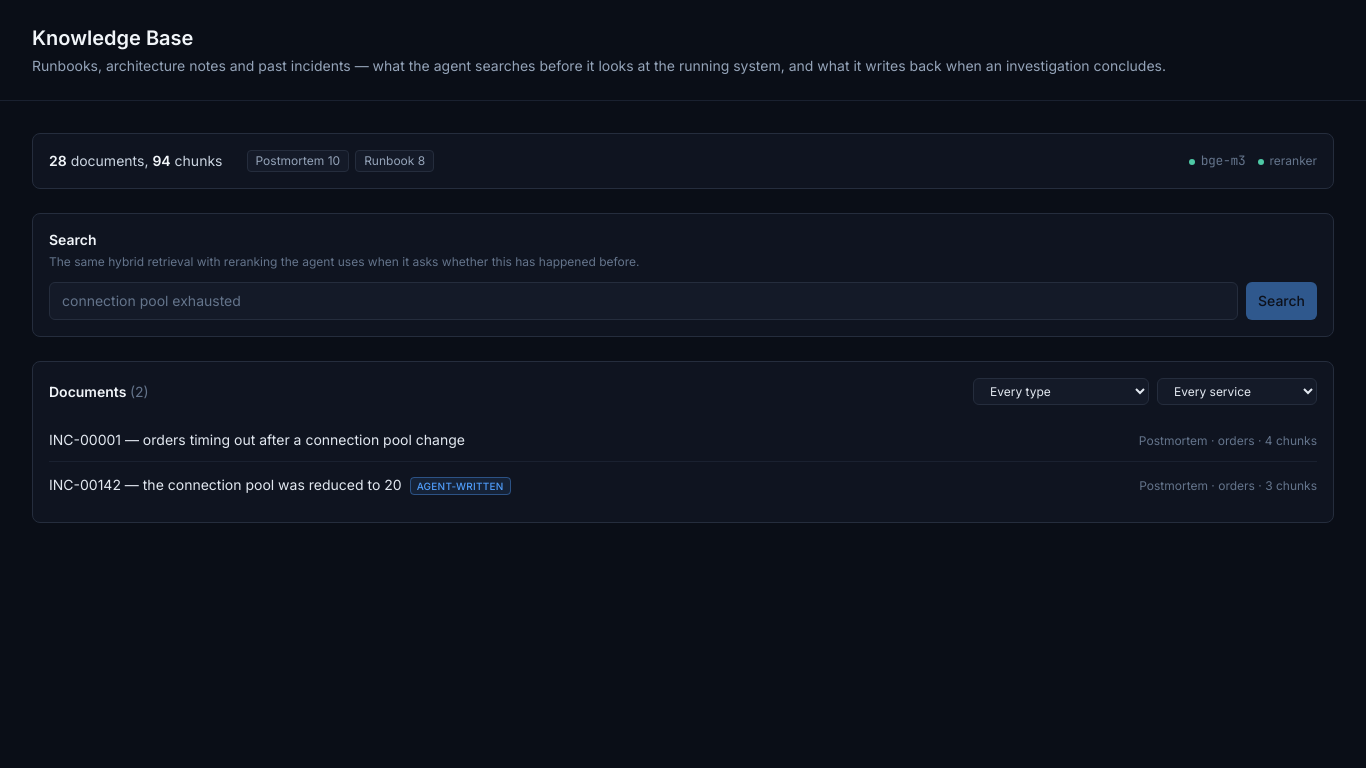
Test: KnowledgePage › says an empty result is an answer rather than an error
This screenshot has width=1366, height=768.
Expected: the text "INC-00001 — orders timing out after a connection pool change" is shown, [49,431,465,448]
Type "quantum tunnelling" into the field named "Search the knowledge base" at (644, 301), box [49,282,1238,320]
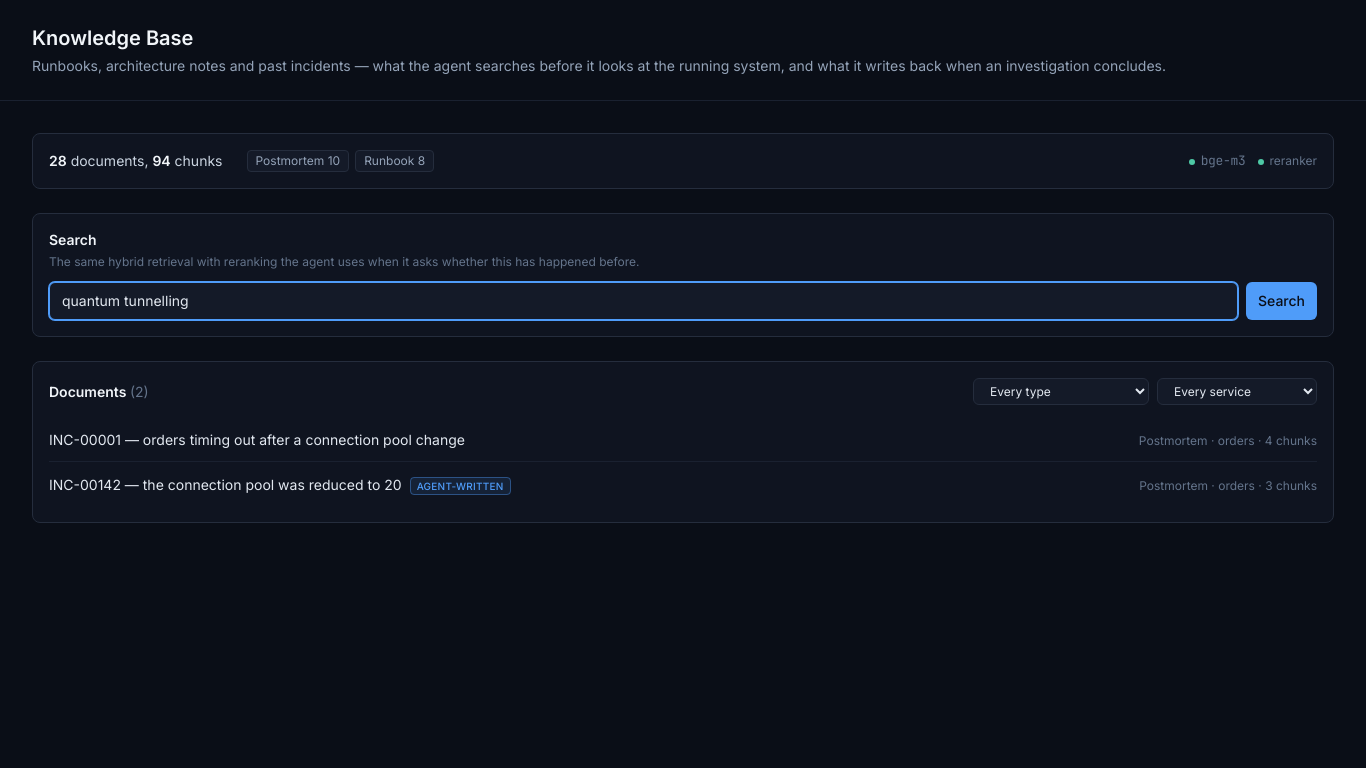
Click the button "Search" at (1282, 301), box [1246,282,1317,320]
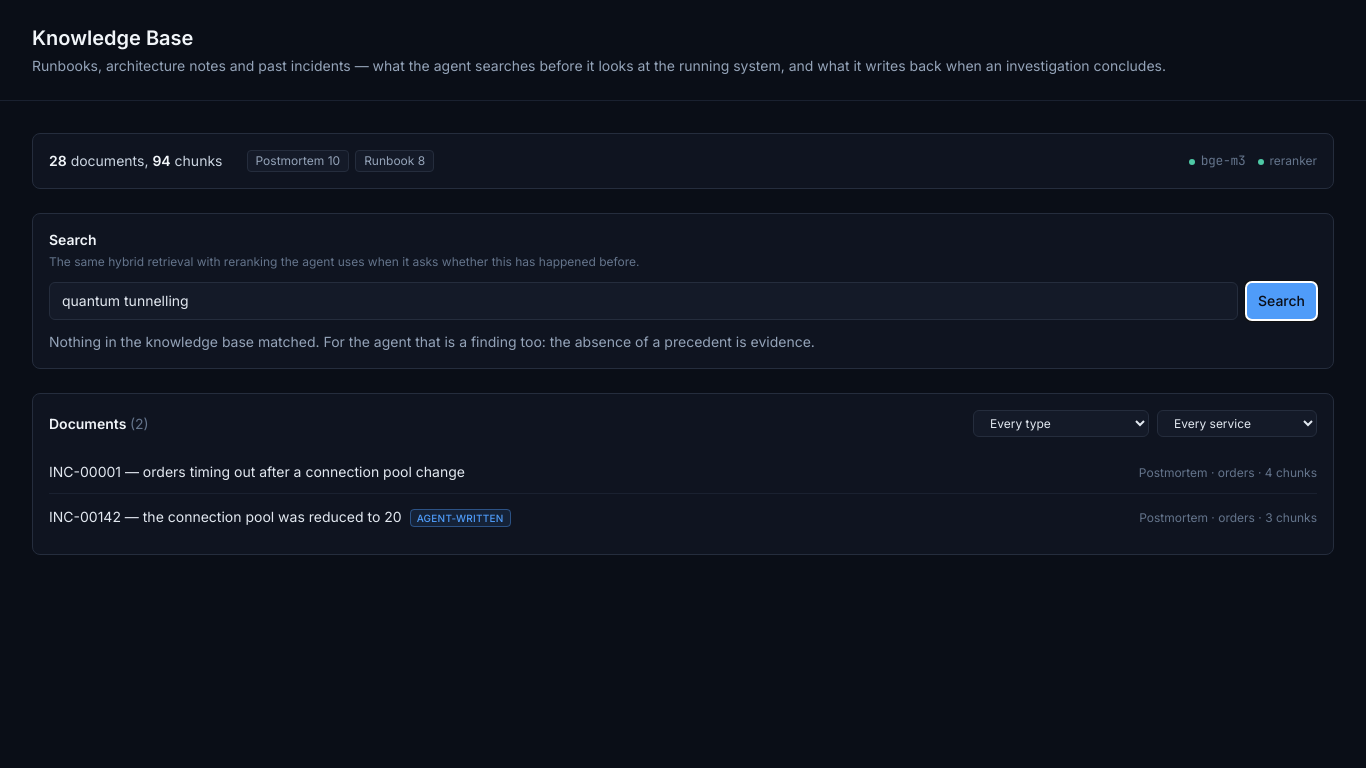
Result: the text "the absence of a precedent is evidence" is shown at [49,333,815,350]
